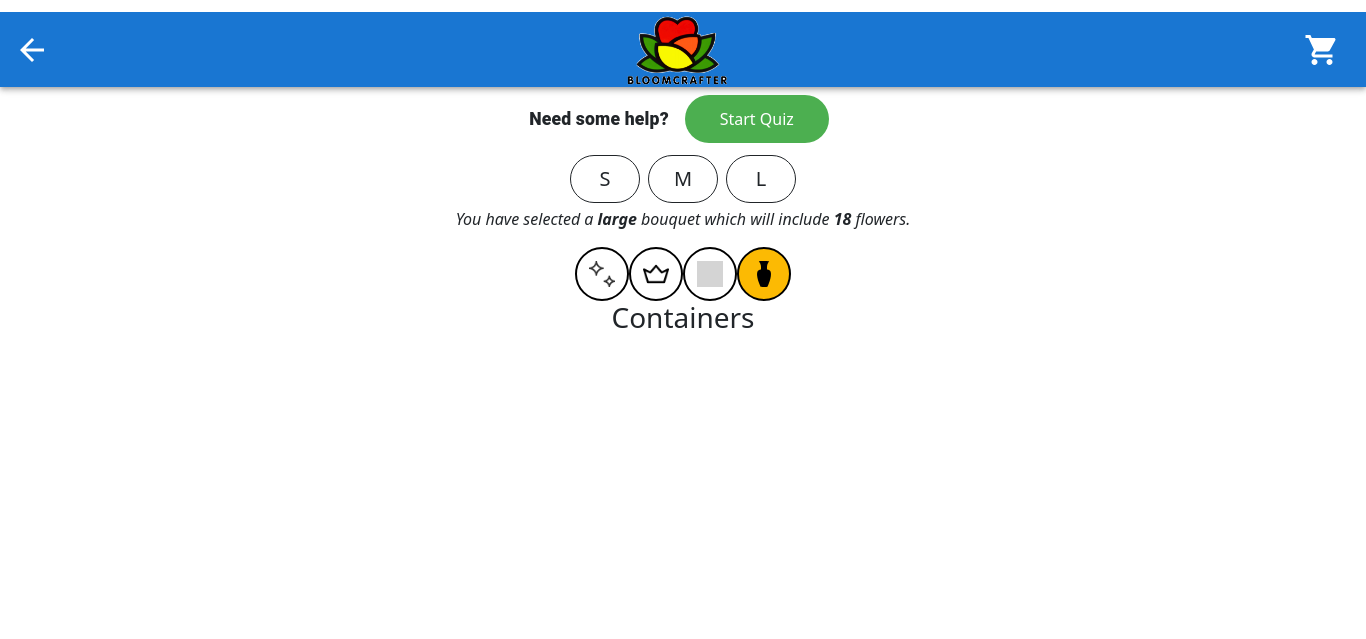
BouquetBuilder › selecting the 'filler' category shows filler flowers
This screenshot has width=1366, height=639.
Click the button with test id "Filler-button". click: coordinates (602, 274)
box: [575, 247, 629, 301]
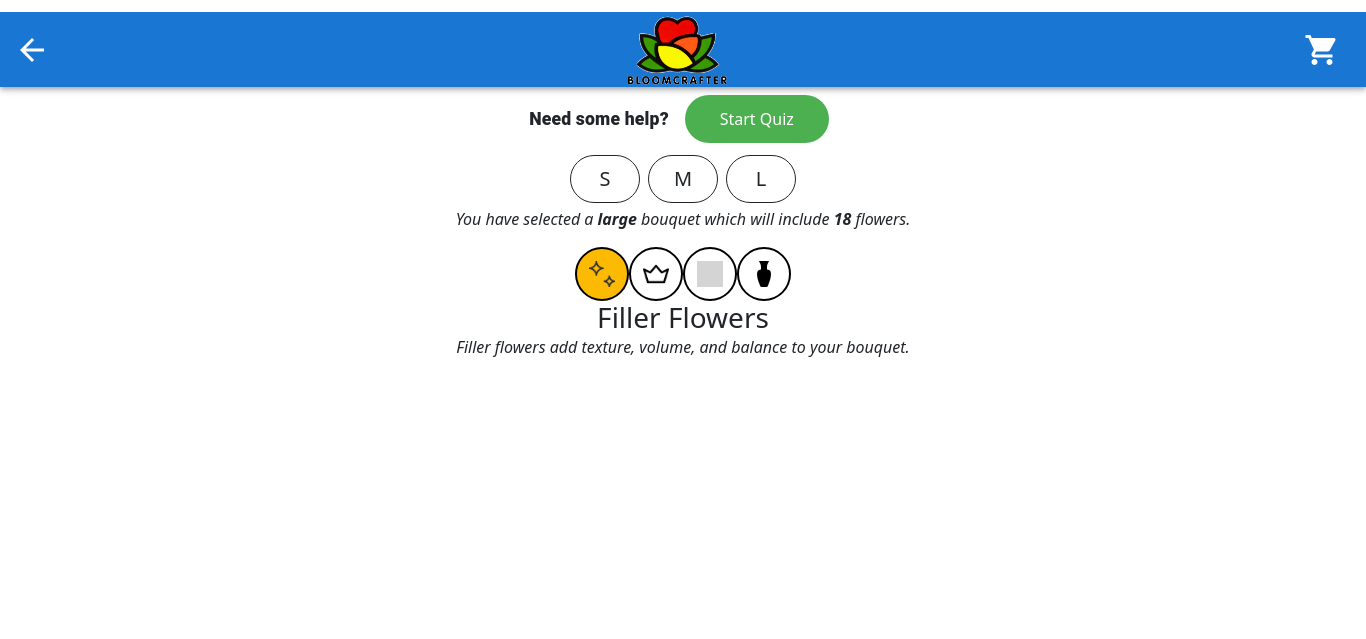
Expected: the heading "Filler Flowers" is shown, [597, 298, 769, 336]
